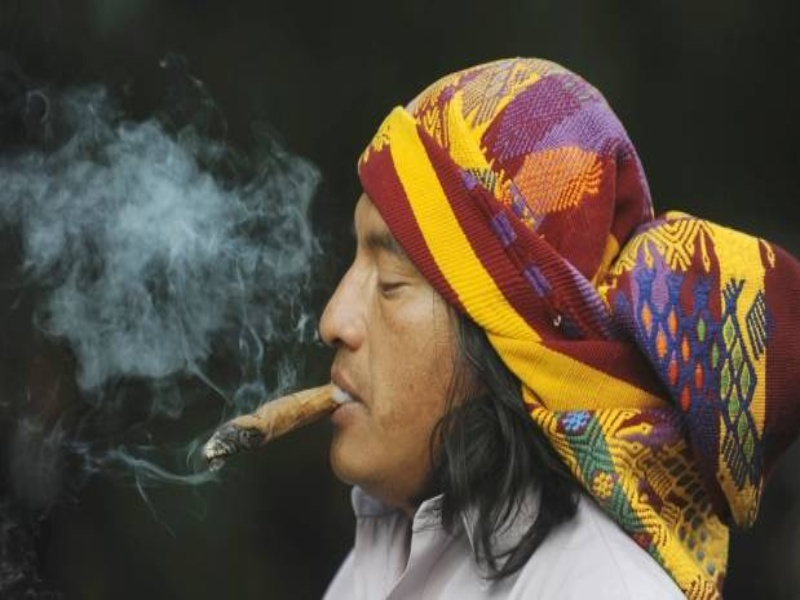smoke: (6, 97, 278, 396)
